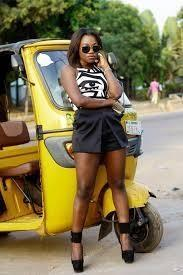keke: (1, 21, 148, 267)
